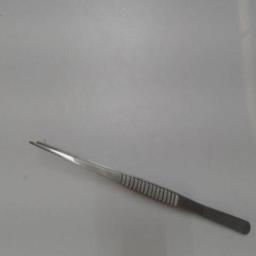DeBakey Dissector: (26, 130, 250, 248)
